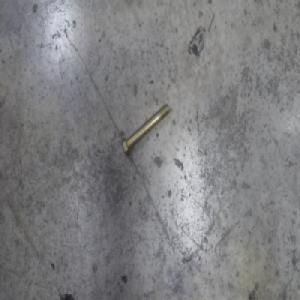Bolt: (121, 100, 171, 157)
